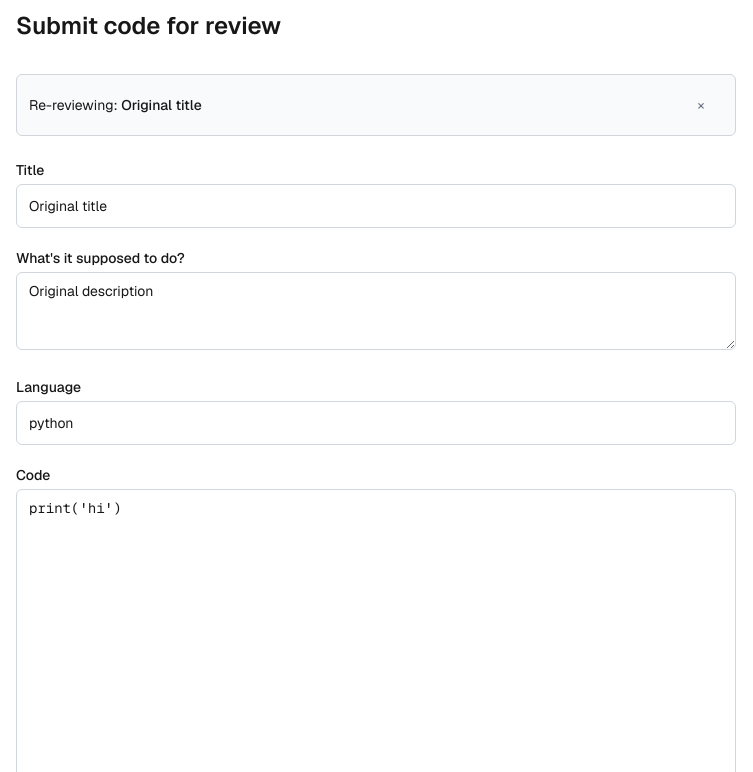
Test: SubmitPage › re-reviewing via ?previous= › dismisses the note without losing the previousSubmissionId link
This screenshot has width=753, height=772.
Check: the field labelled "Title" holds "Original title", box top-left (16, 184), bottom-right (736, 228)
Click the button named "dismiss": [701, 105] box top-left (679, 83), bottom-right (723, 127)
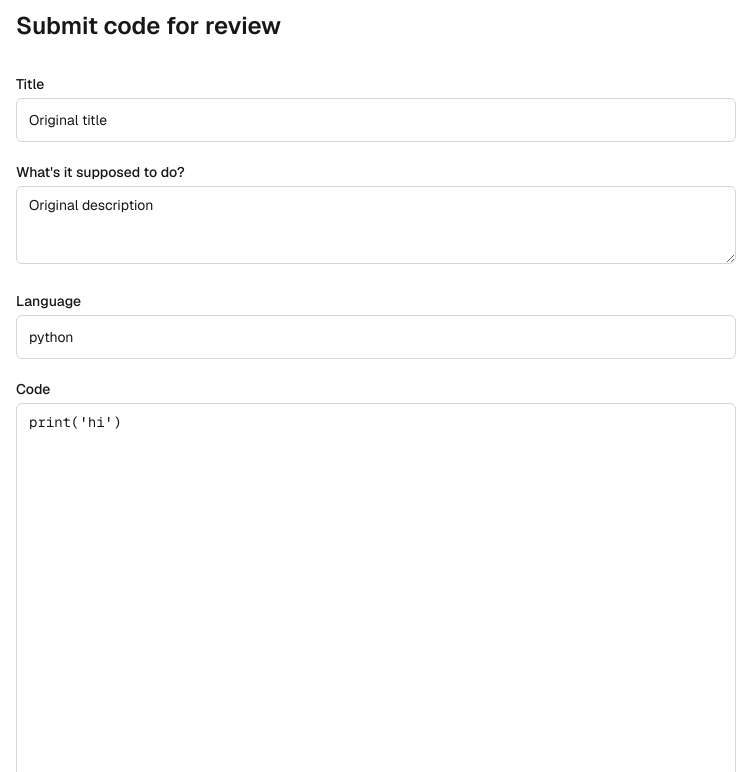
Check: the field labelled "Title" holds "Original title", box top-left (16, 98), bottom-right (736, 142)
Check: the text "Re-reviewing:" is gone
